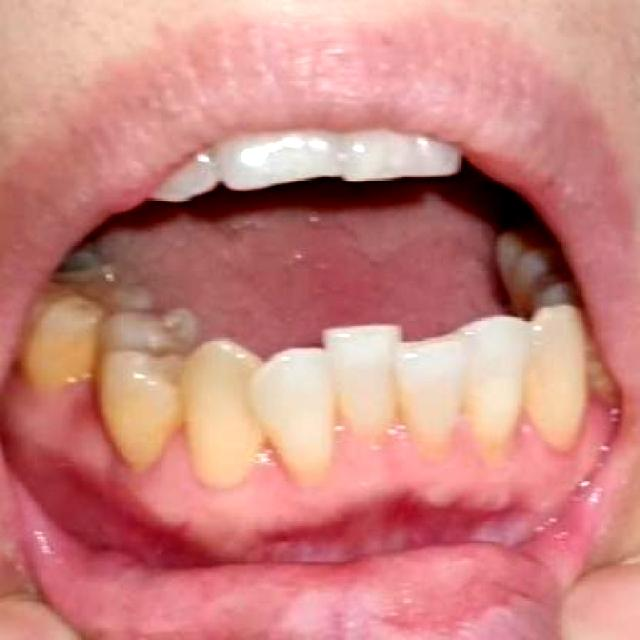Plaque: (104, 425, 183, 493), (517, 394, 591, 462), (263, 439, 336, 489), (465, 427, 520, 480), (400, 425, 458, 466)
